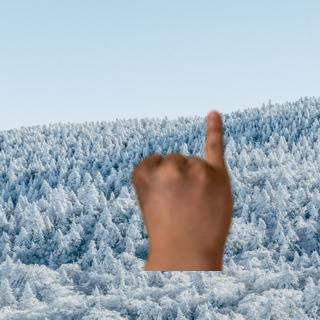FINE: (126, 107, 239, 267)
